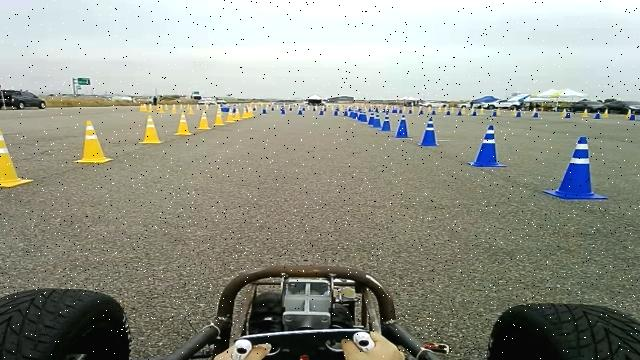blue cone: (542, 135, 609, 200), (467, 124, 507, 168), (418, 117, 441, 147), (394, 115, 412, 138), (380, 114, 393, 132)
yellow cone: (0, 128, 34, 188), (73, 120, 114, 164), (0, 127, 19, 181), (139, 114, 164, 144), (174, 112, 193, 136), (197, 110, 212, 130), (213, 109, 226, 126), (85, 120, 96, 137), (226, 109, 236, 123), (234, 108, 242, 120), (245, 110, 255, 118)
